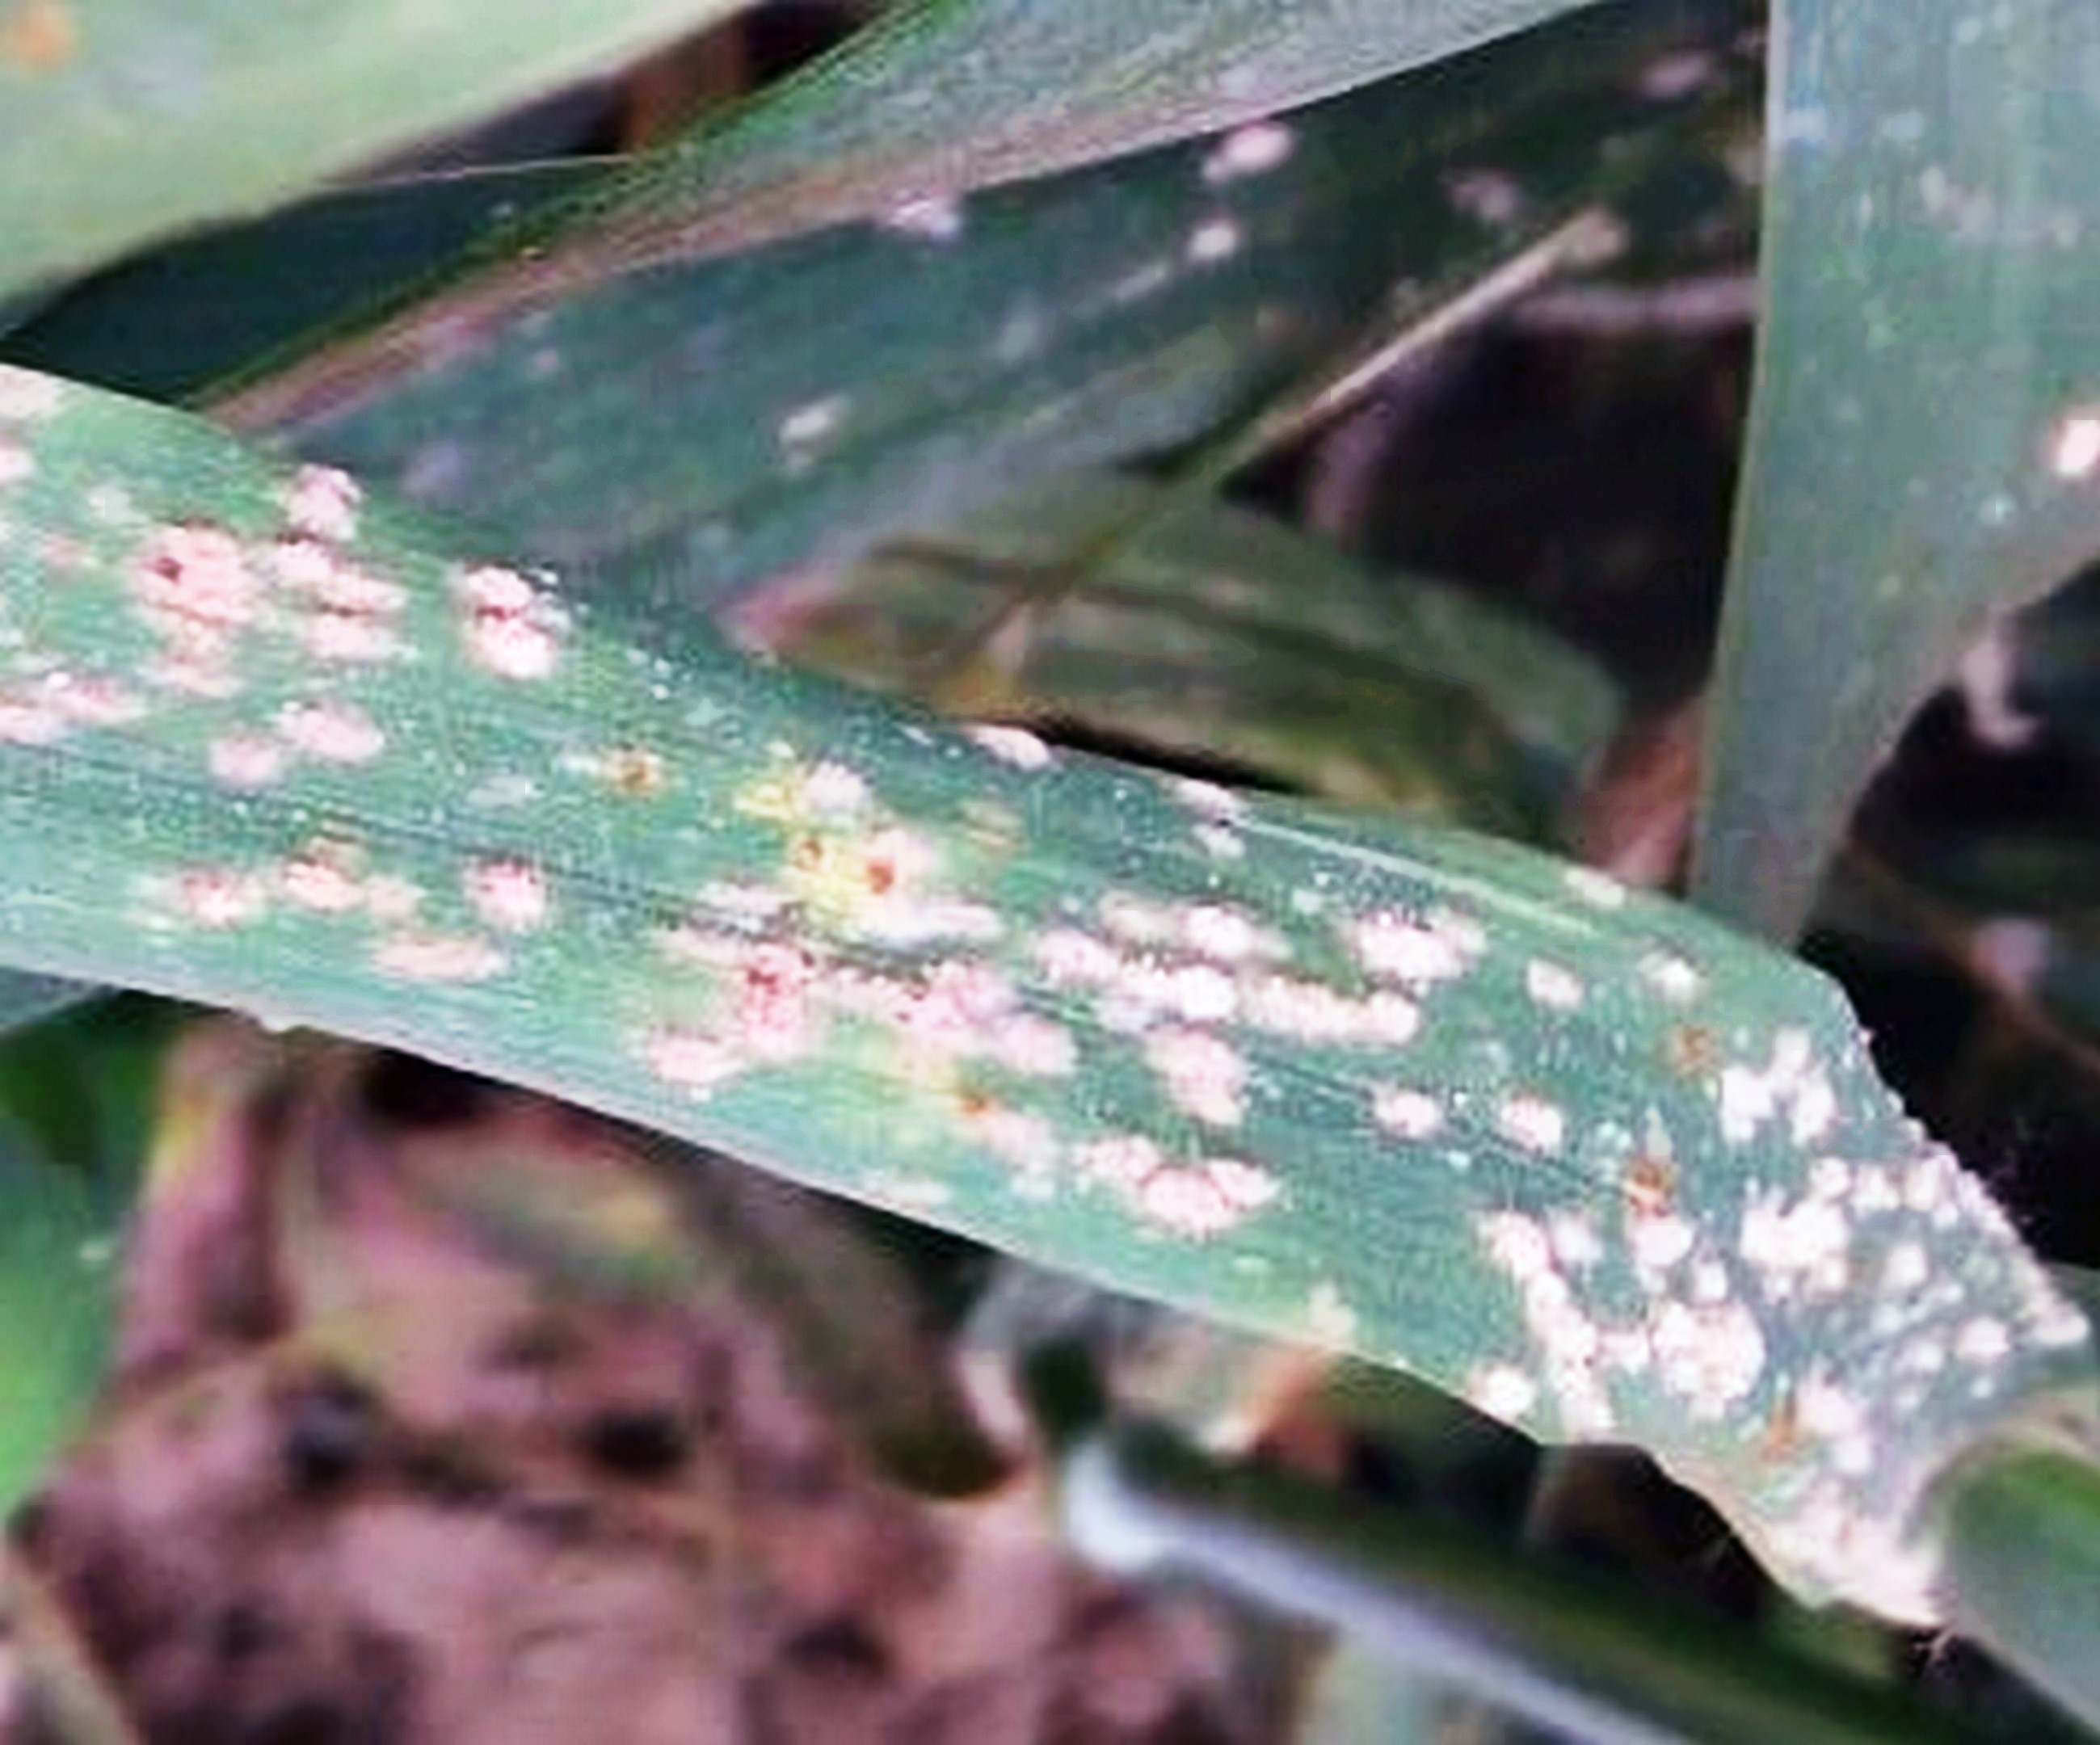Powdery Mildew: (194, 539, 1763, 1417)
